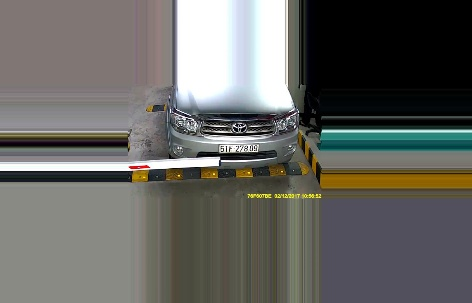plate: (220, 141, 260, 154)
